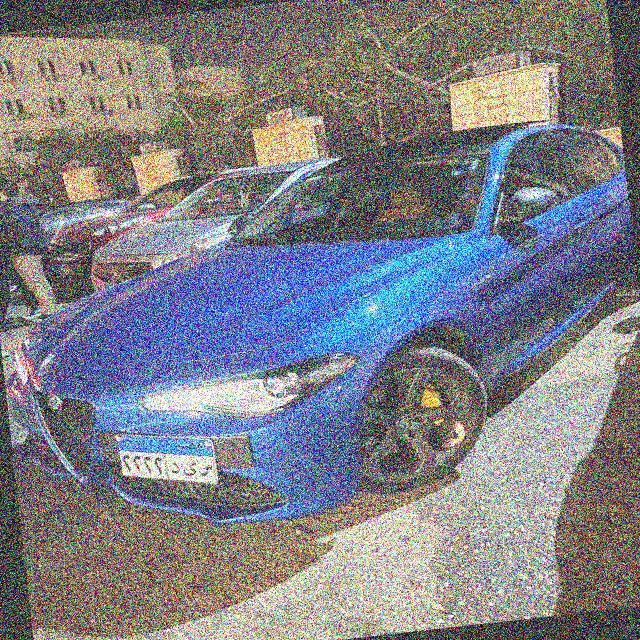License Plate: (112, 423, 220, 497)
